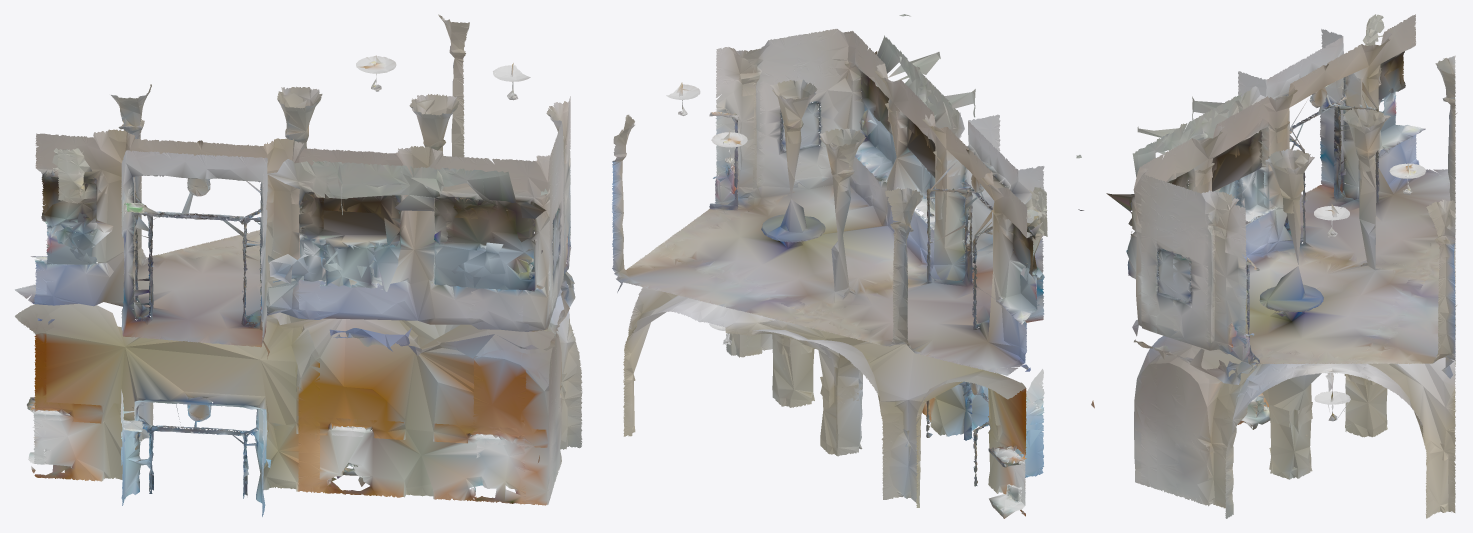
3 renders of one model, left to right at view 1: azimuth 30°, elevation 25°; view 2: azimuth 150°, elevation 25°; view 3: azimuth 270°, elevation 25°, orthographic. The views are drawn at different scales.
Size of the model in its own units: 10.18 by 7.5 by 8.32.
